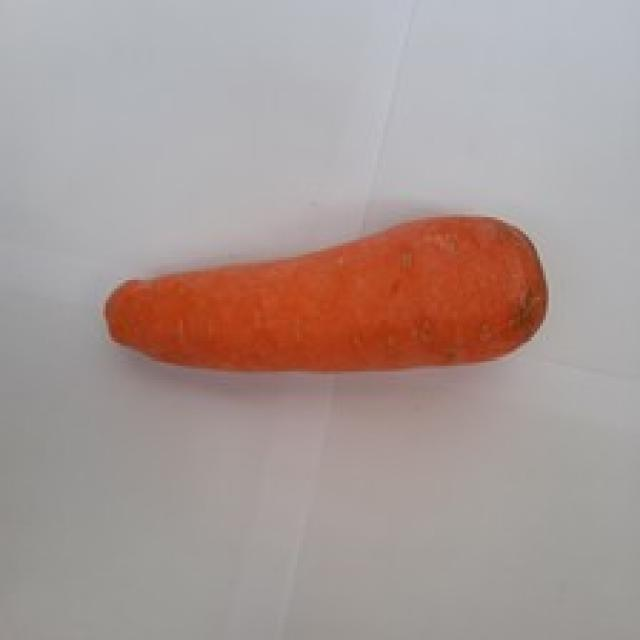carrot: (106, 213, 547, 374)
